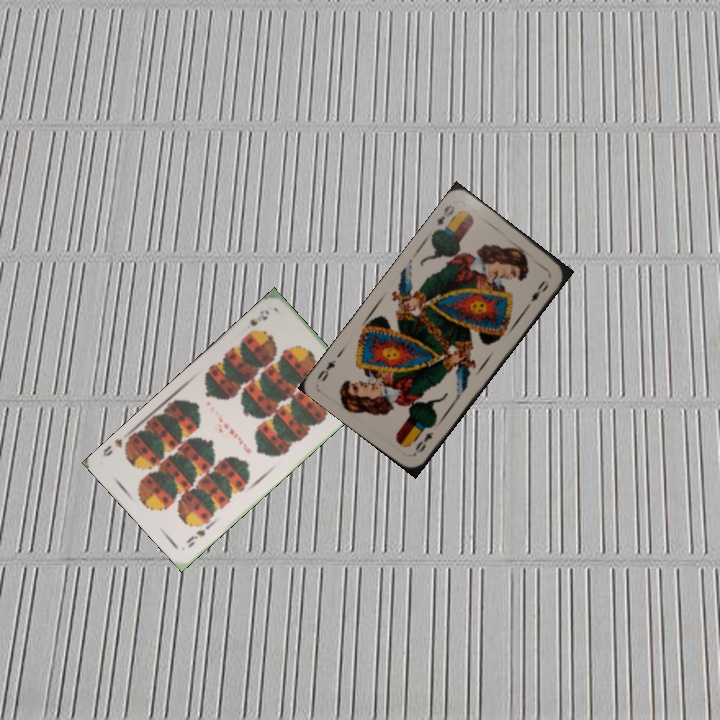EO: (410, 428, 436, 457), (433, 200, 457, 229)
S9: (242, 305, 272, 339), (182, 525, 208, 550)
